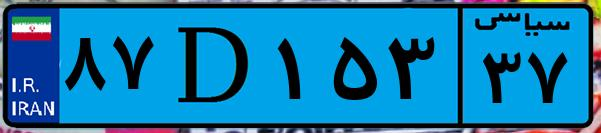1: (270, 28, 330, 110)
3: (385, 28, 445, 110), (475, 38, 525, 113)
5: (330, 28, 385, 110)
7: (525, 38, 570, 115), (110, 28, 158, 98)
8: (57, 26, 110, 100)
D: (158, 12, 270, 120)
